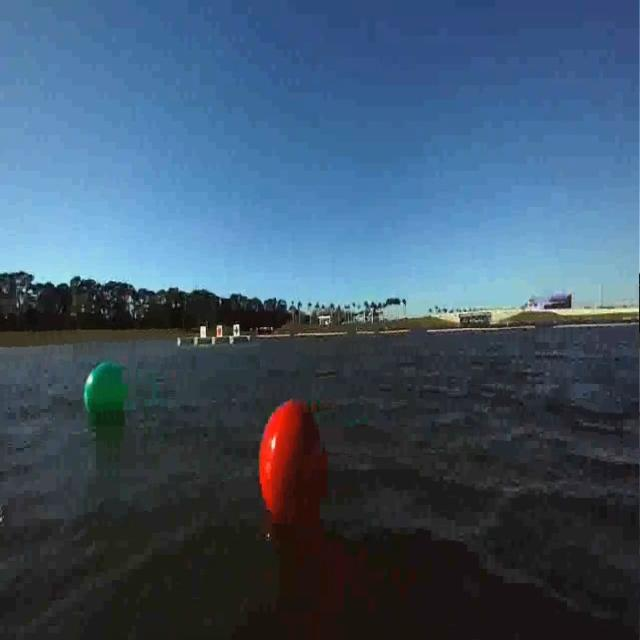green-buoy: (84, 361, 130, 416)
red-buoy: (257, 398, 328, 534)
